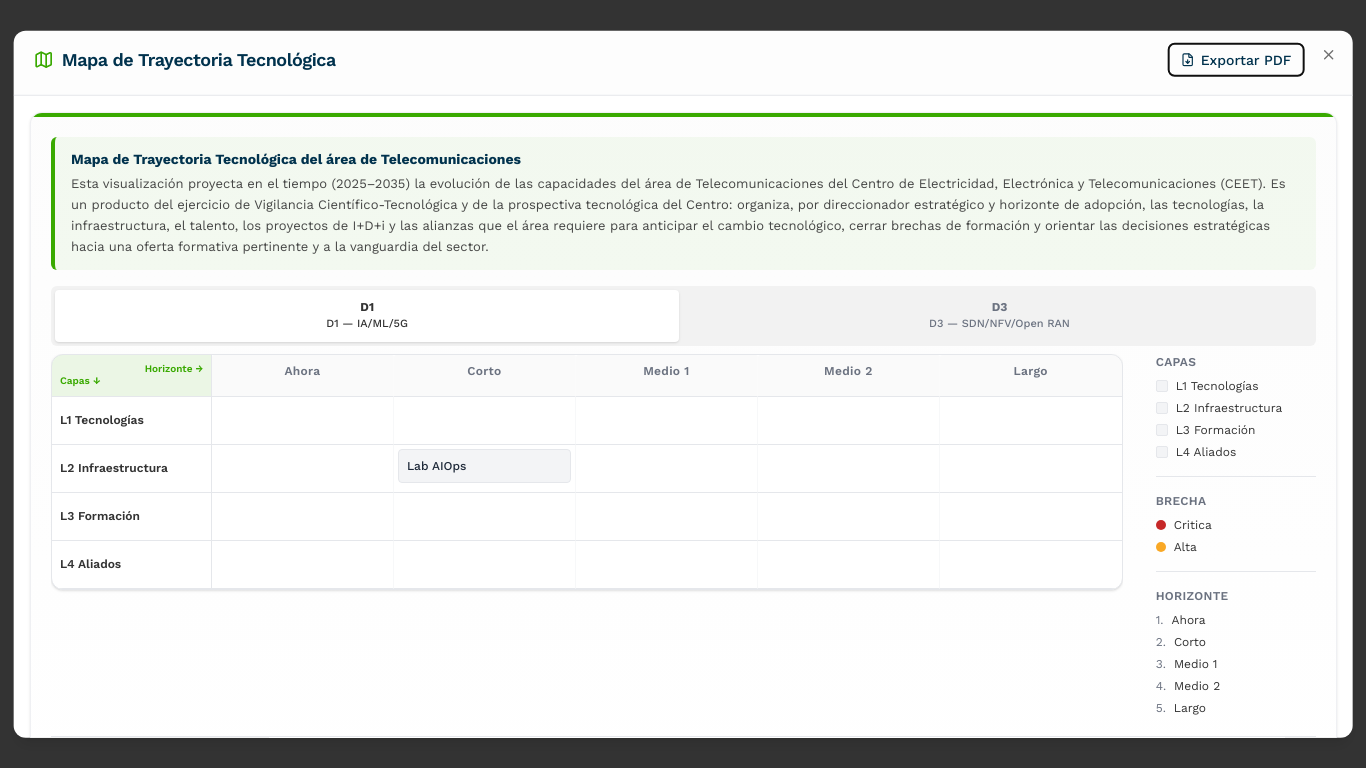
Scenario: TrajectoryModal › clicking a node opens the detail panel
Click the node button (first match — desktop or mobile)
Click the button "Lab AIOps": (484, 465) [398,448,570,483]
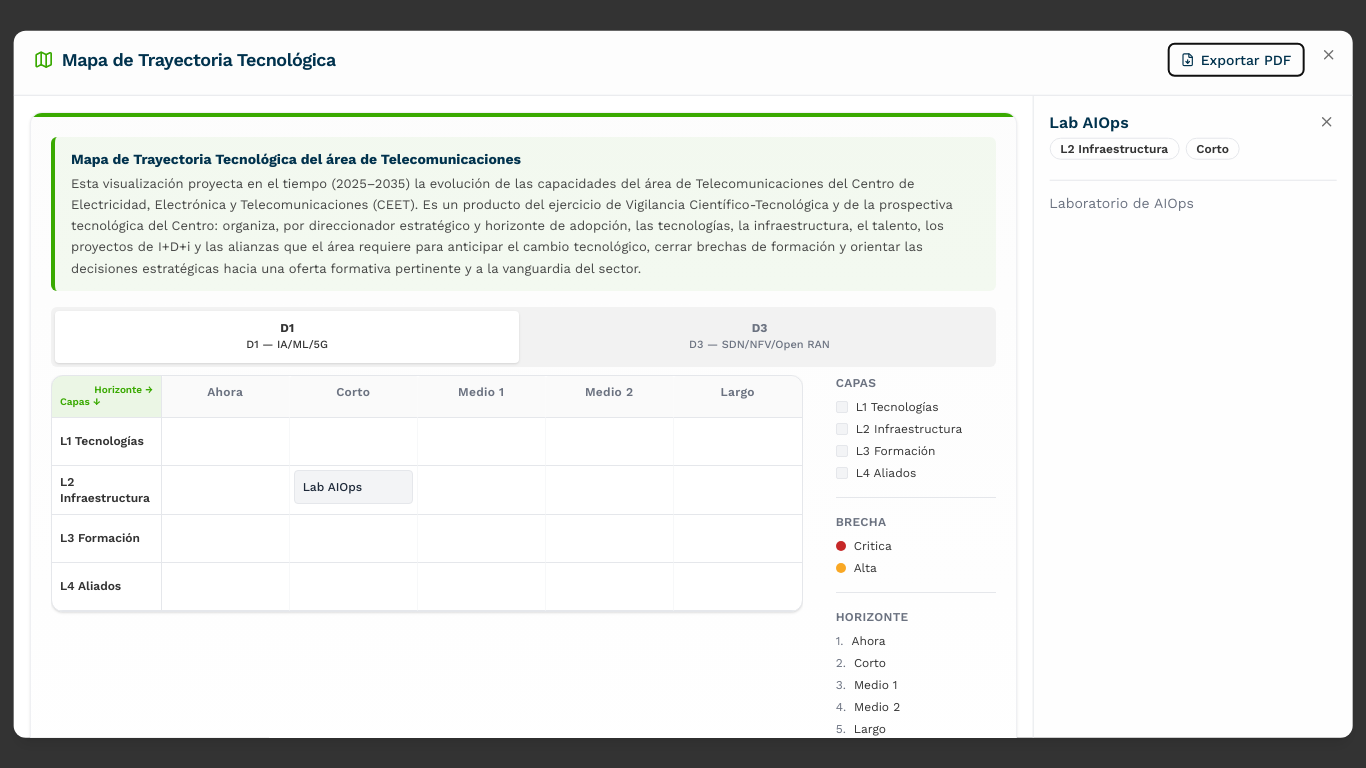
Check: the element with test id "trajectory-detail-panel" is shown, box [1032,96,1352,737]
